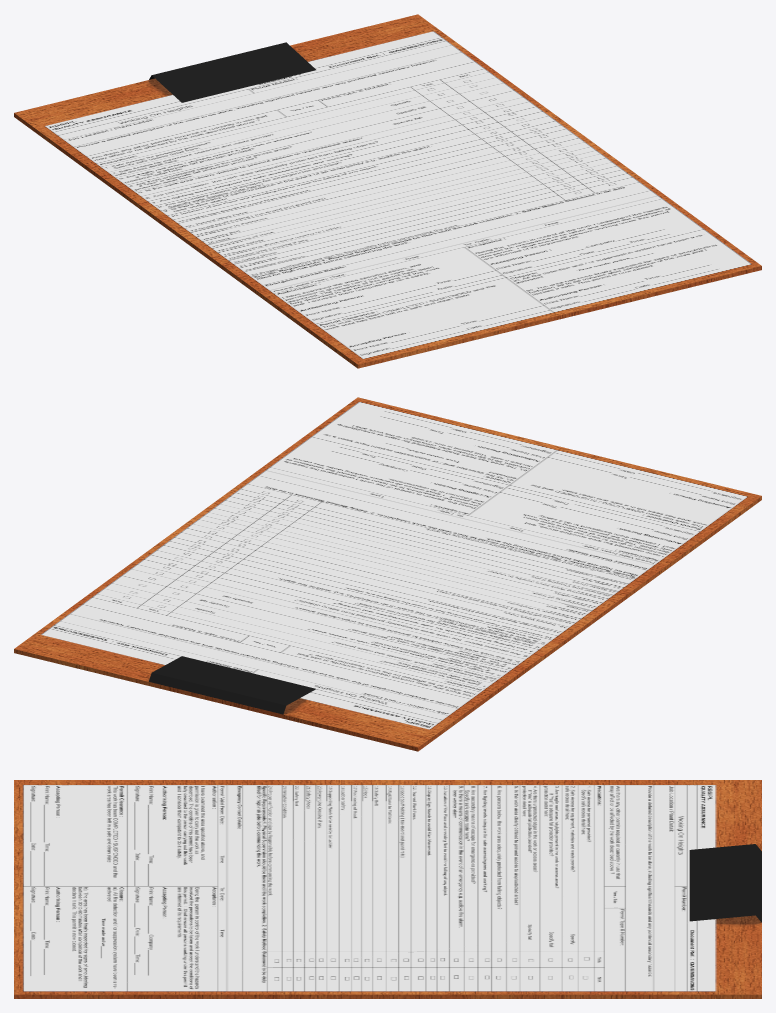
The model's file is Work permit_01.fbx.
The picture shows the model from 3 angles, top to bottom: view 1: azimuth 30°, elevation 25°; view 2: azimuth 150°, elevation 25°; view 3: azimuth 270°, elevation 25°; orthographic projection. The views are drawn at different scales.
Visible parts, largest first — view 1: Pad.001; view 2: Pad.001; view 3: Pad.001.
Boxes of the visible parts, x1,y1,x2,y2 form: Pad.001: (14, 14, 761, 368); Pad.001: (14, 397, 761, 751); Pad.001: (14, 780, 761, 998).
Bounding box in the file's own units: 24.13 × 0.6303 × 35.56.
1 material, 1 textured.
